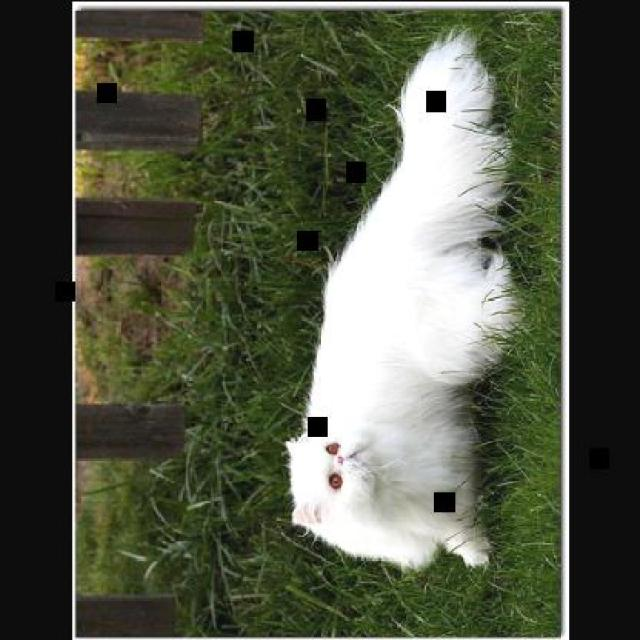unauthorized: (283, 25, 525, 572)
